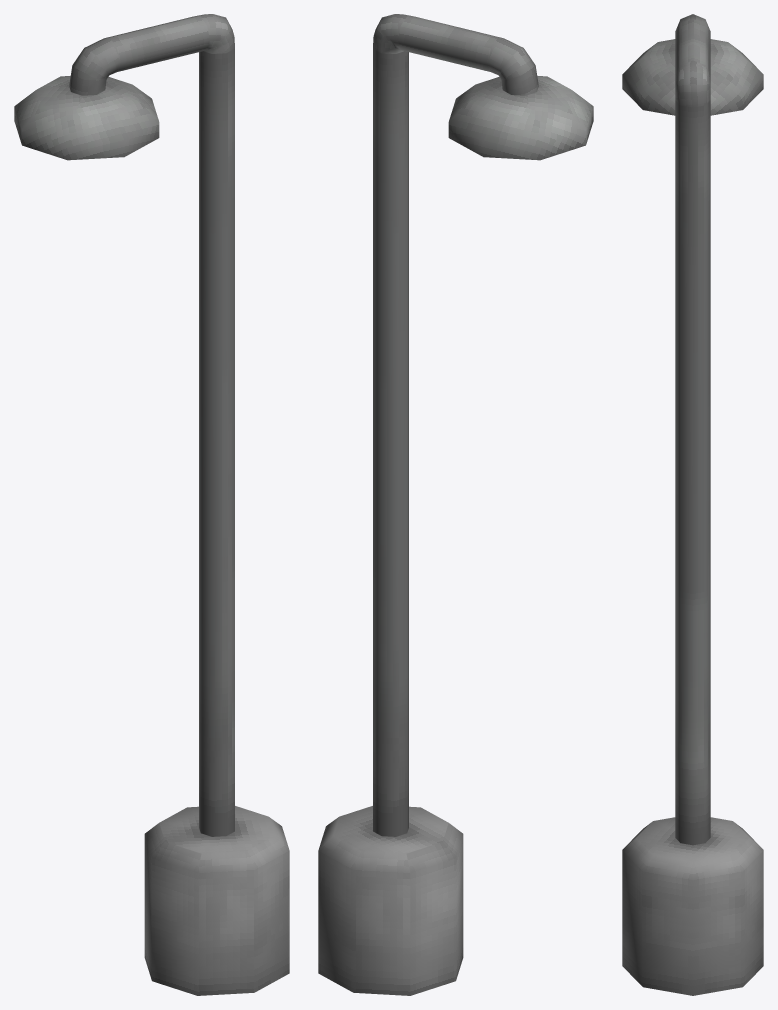
File: StreetLight.glb
The picture shows the model from 3 angles, left to right: view 1: azimuth 30°, elevation 25°; view 2: azimuth 150°, elevation 25°; view 3: azimuth 270°, elevation 25°; orthographic projection. The views are drawn at different scales.
Visible parts, largest first — view 1: Cylinder.019; view 2: Cylinder.019; view 3: Cylinder.019.
Boxes of the visible parts, x1,y1,x2,y2 form: Cylinder.019: [14, 14, 289, 995]; Cylinder.019: [318, 14, 593, 995]; Cylinder.019: [622, 14, 763, 995].
Size of the model in its own units: 8 by 28.02 by 4.
1 material, 1 textured.
